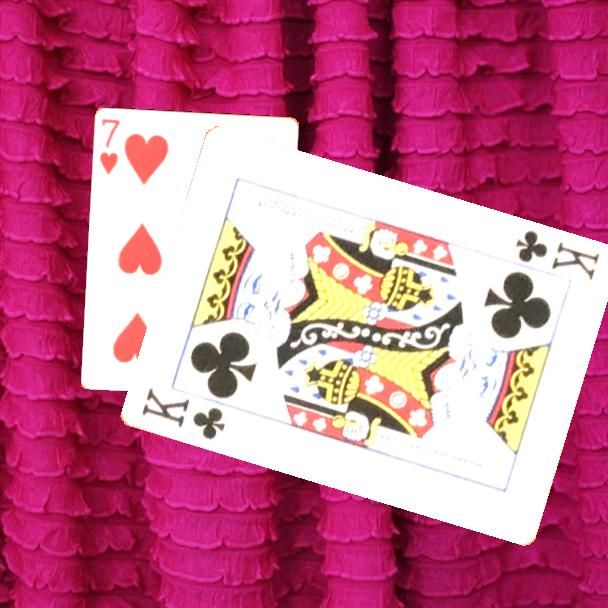c13: (137, 385, 228, 443), (512, 227, 602, 284)
h07: (96, 115, 123, 178)
